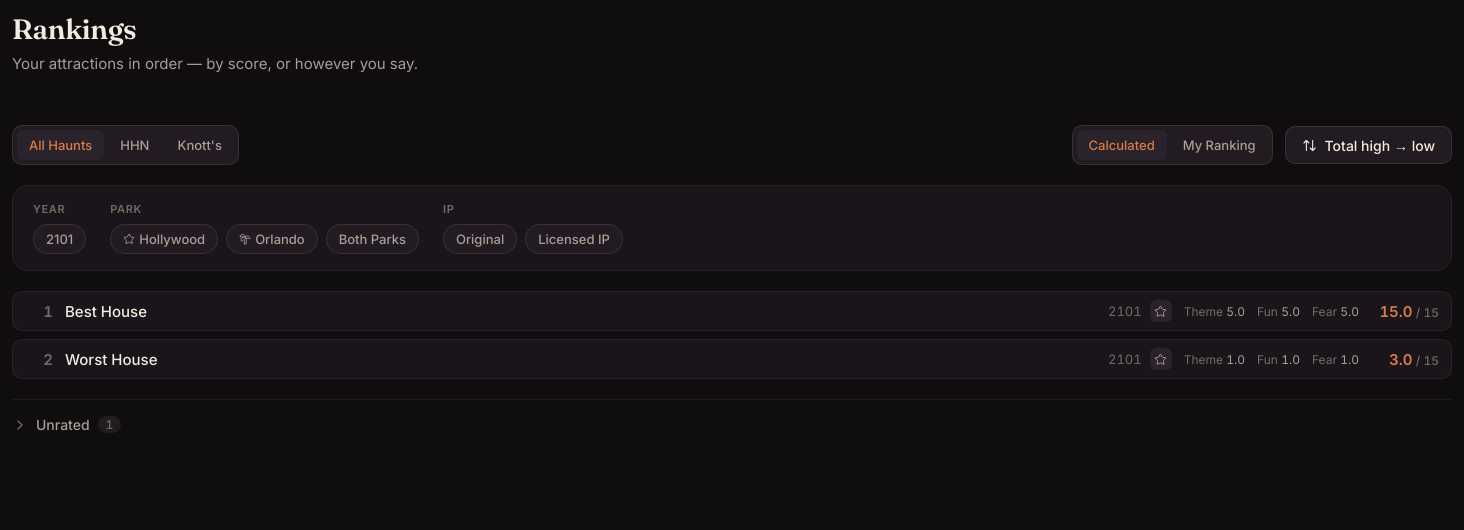
Rankings › attractions outside the ranking › keeps unrated attractions in their own collapsed section, not in the ranking
Expected: the number of list items is 2, 12,291 -> 1452,331; 12,339 -> 1452,379
Expected: the text "Unrated House" is not shown
Click the button "Unrated 1" at (67, 424), box 12,416 -> 121,433
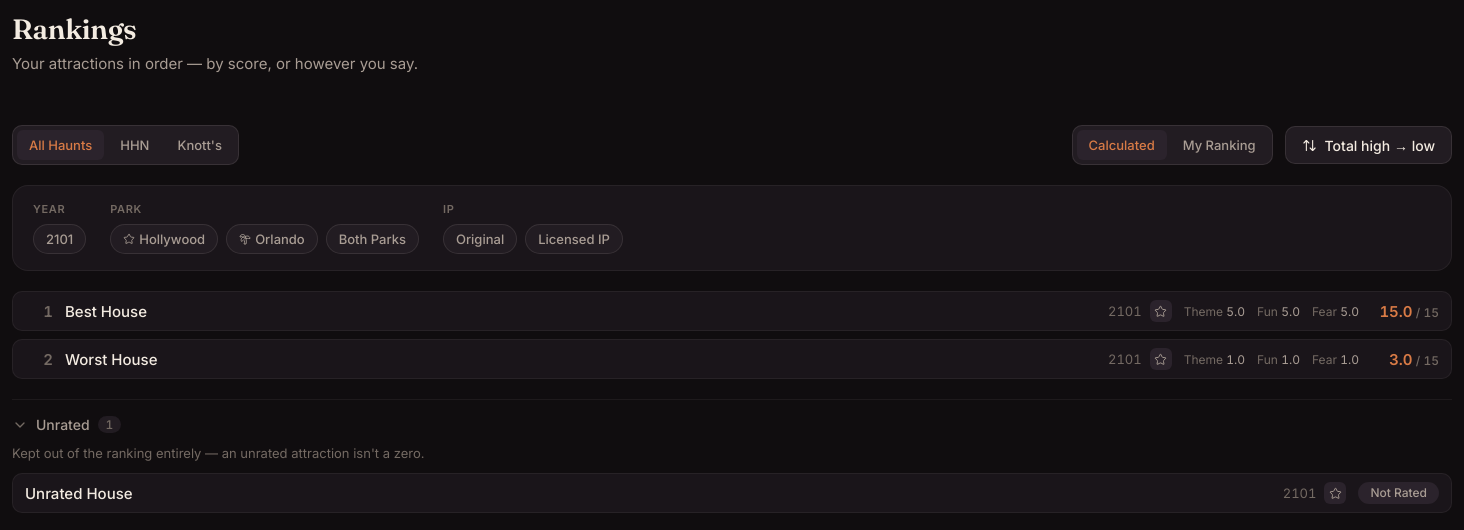
Expected: the text "Unrated House" is shown, 25,484 -> 133,502
Expected: the text "isn't a zero" is shown, 12,445 -> 424,461
